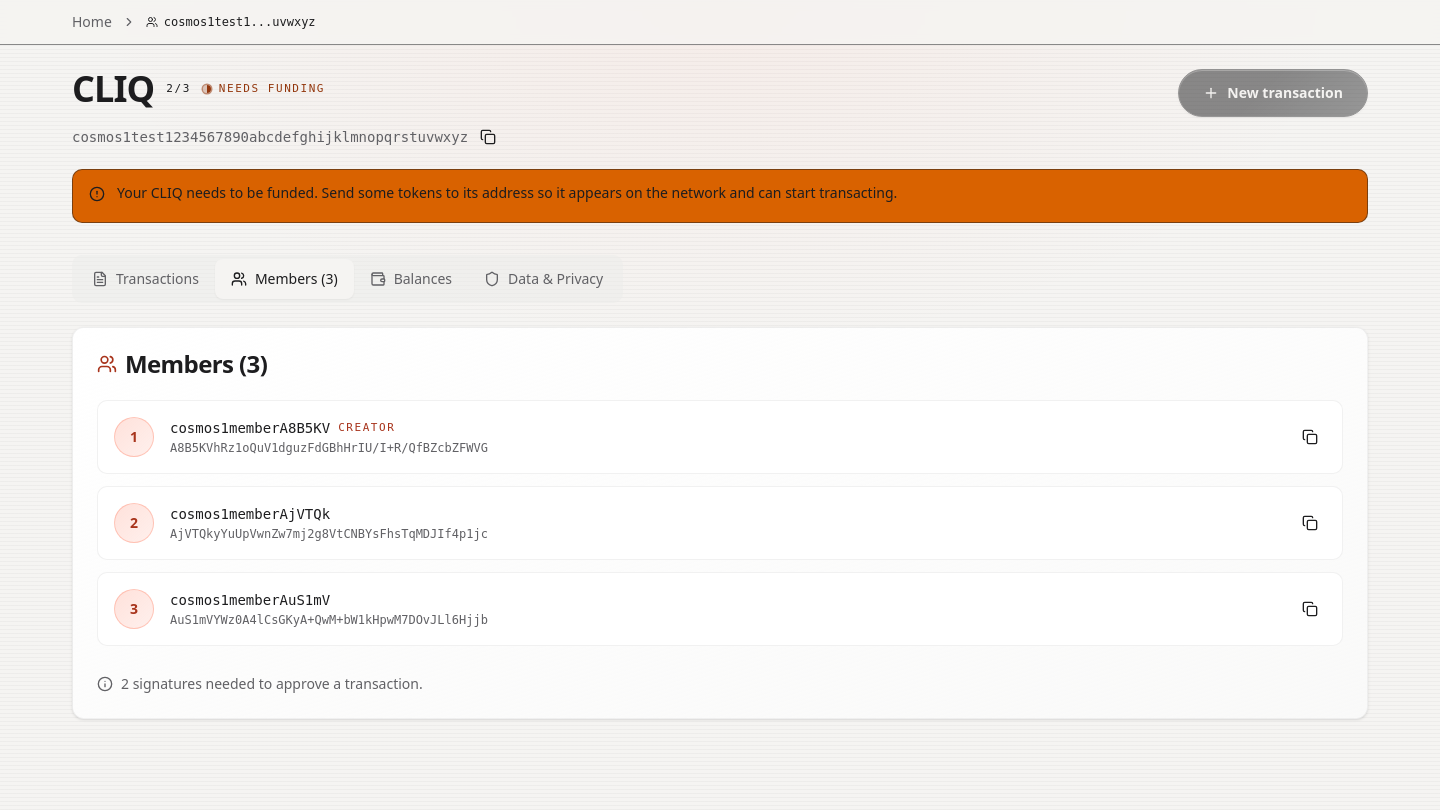
Test: Multisig View Route (/[chainName]/[address]): P0 › unfunded CLIQ: the disabled New transaction button explains itself in a tooltip
This screenshot has width=1440, height=810.
Focus the element "New transaction" at (1273, 93), box x1=1178 y1=69 x2=1368 y2=117
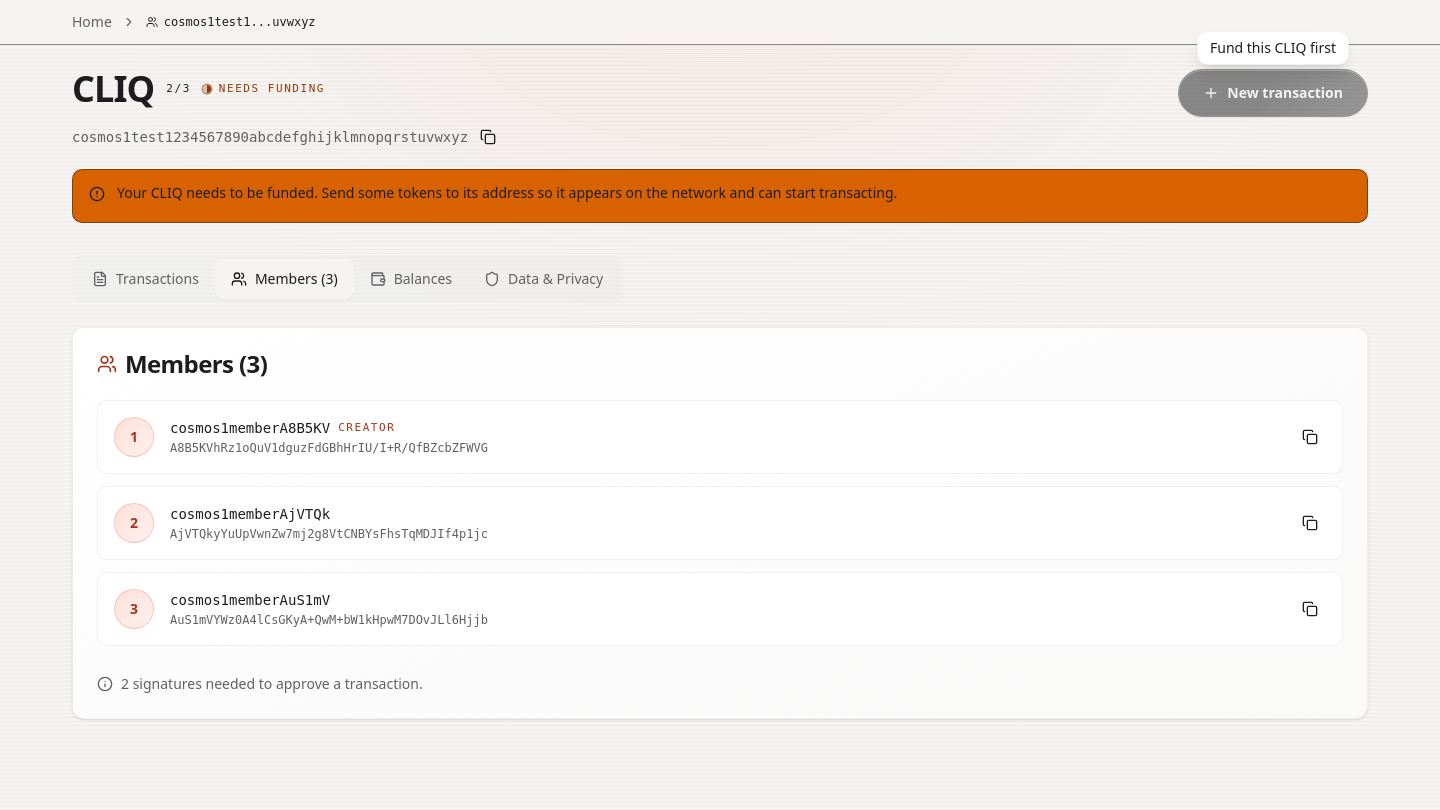
Result: the tooltip "Fund this CLIQ first" is shown at x1=1197 y1=31 x2=1349 y2=65
